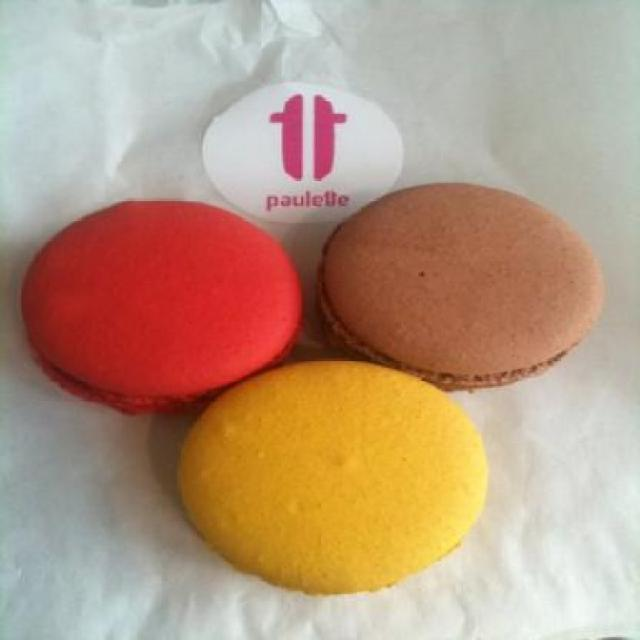Macaron: (10, 183, 621, 620)
